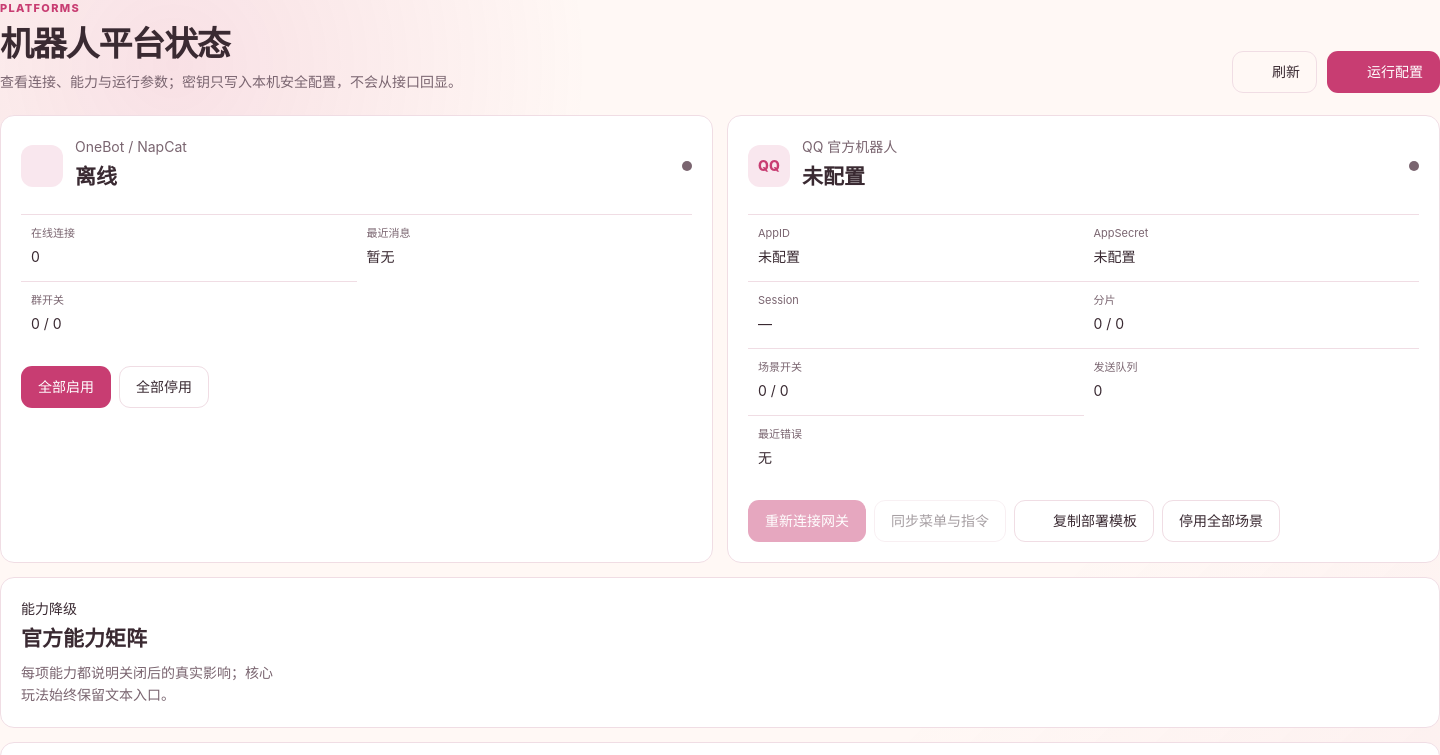
Test: PlatformsView › uses a runtime config drawer and never displays stored secrets
Click the button "运行配置" at (1384, 72), box [1327,51,1439,93]
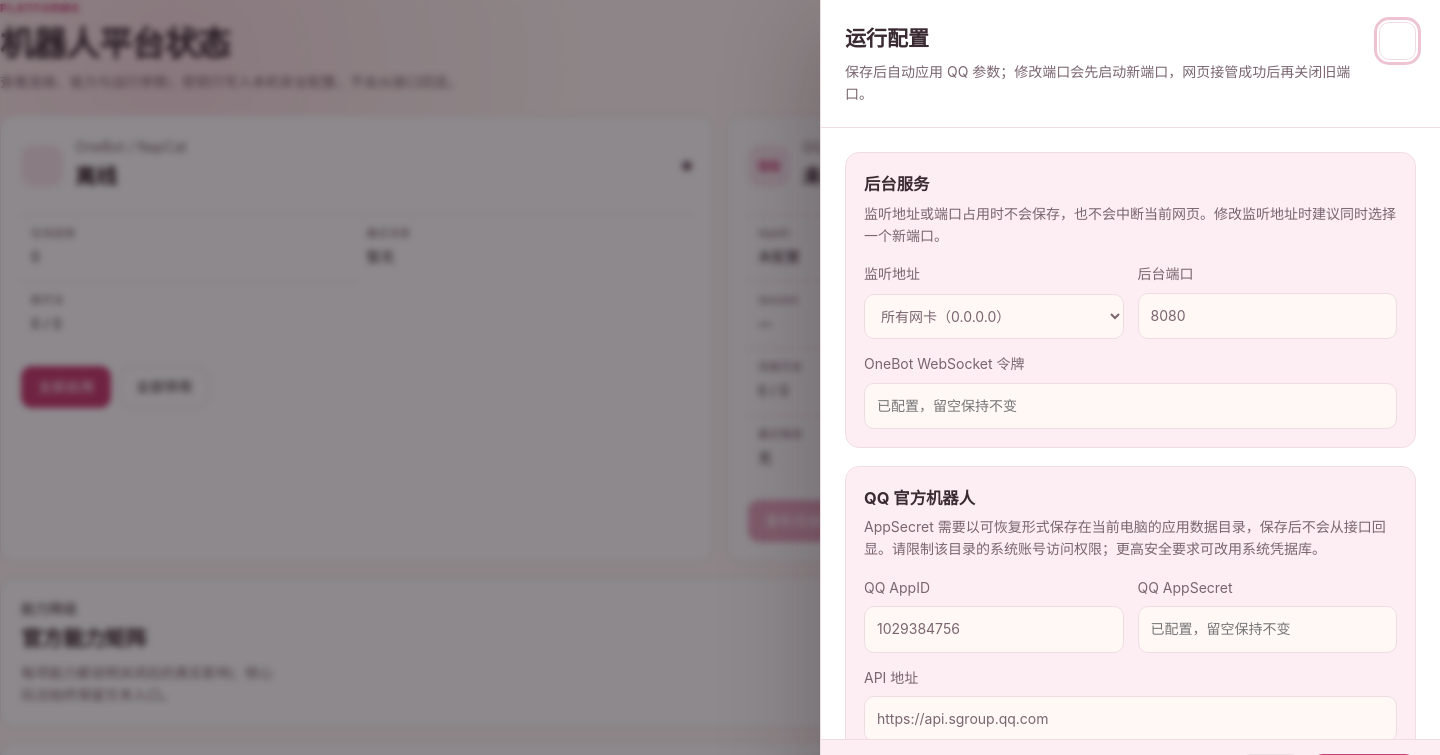
Expected: the text "后台端口" is shown, [1138,263,1397,339]
Expected: the text "监听地址" is shown, [864,205,1396,244]
Expected: the text "QQ AppSecret" is shown, [1138,577,1397,653]
